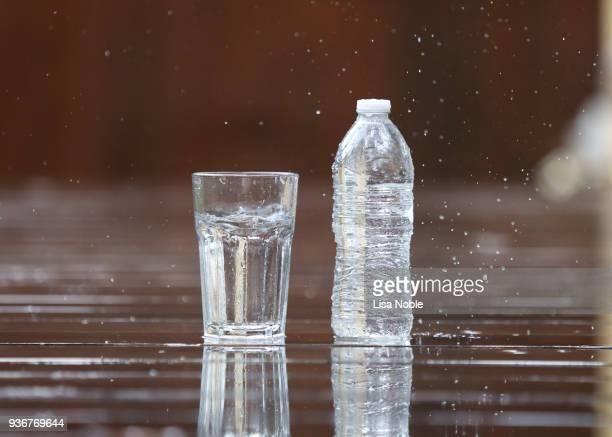bottle: (324, 90, 423, 349)
